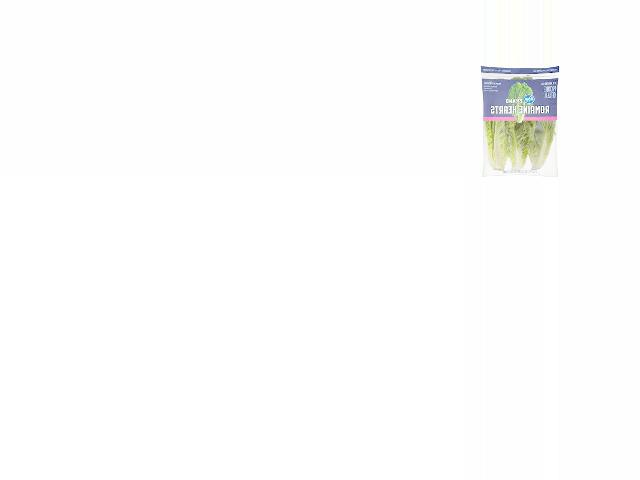lettuce: (477, 68, 562, 173)
